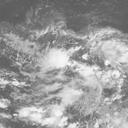cyclone: (31, 26, 122, 102)
